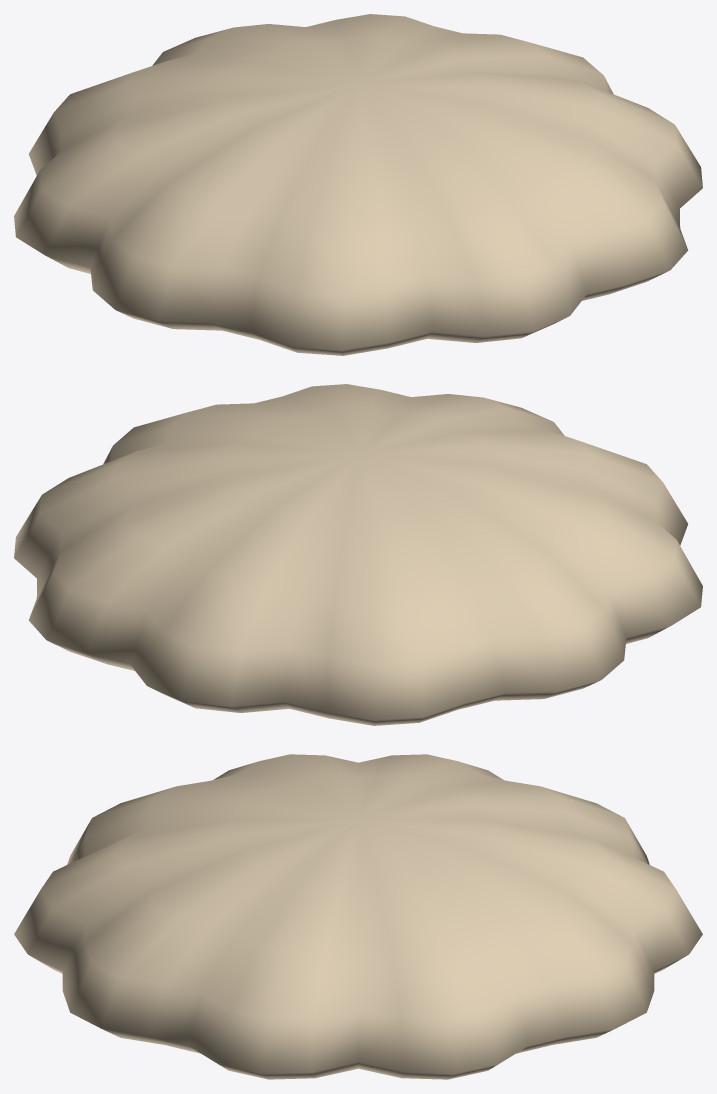
Rendered from cockle-2.glb.
3 renders of one model, top to bottom at view 1: azimuth 30°, elevation 25°; view 2: azimuth 150°, elevation 25°; view 3: azimuth 270°, elevation 25°, orthographic. The views are drawn at different scales.
Parts seen in each view (by area): view 1: cockle-2; view 2: cockle-2; view 3: cockle-2.
Part boxes in pixels (box(x1,y1,x2,y2)): cockle-2: box(14, 14, 702, 355); cockle-2: box(14, 384, 702, 725); cockle-2: box(14, 754, 702, 1079).
Size of the model in its own units: 0.3824 by 0.084 by 0.399.
